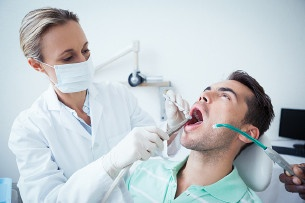Mask: (50, 41, 100, 90)
